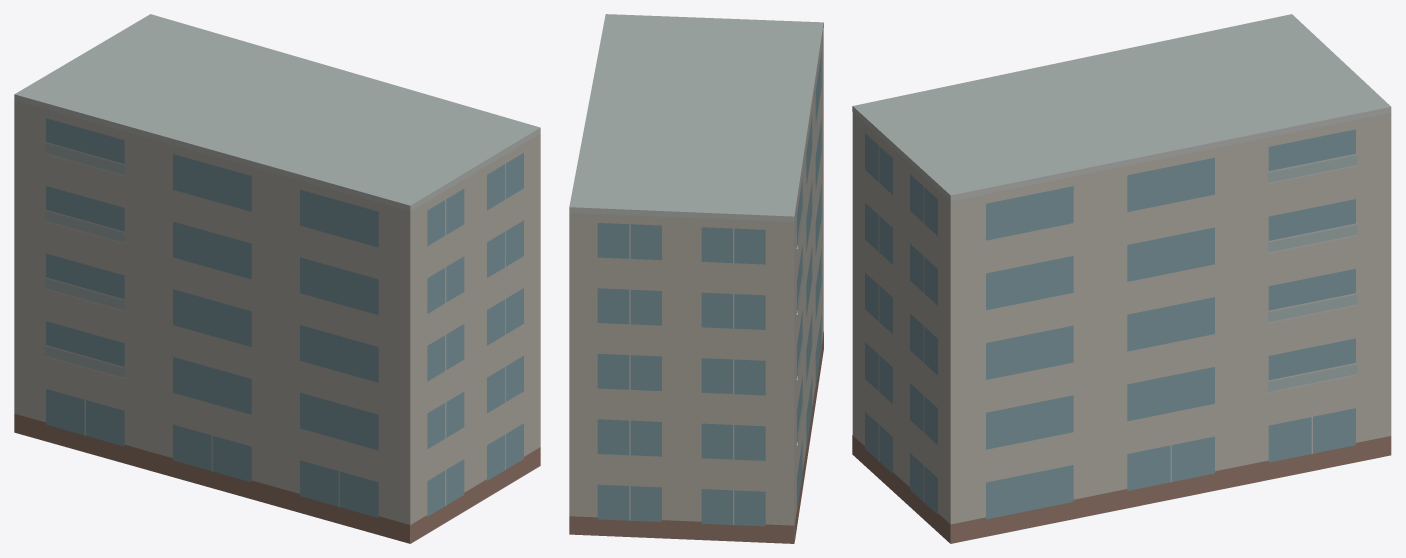
The model's file is survey-upis-32571391.glb.
3 renders of one model, left to right at view 1: azimuth 30°, elevation 25°; view 2: azimuth 150°, elevation 25°; view 3: azimuth 270°, elevation 25°, orthographic. The views are drawn at different scales.
Visible parts, largest first — view 1: survey-upis-32571391.tmp; view 2: survey-upis-32571391.tmp; view 3: survey-upis-32571391.tmp.
Part boxes in pixels (x1=…): survey-upis-32571391.tmp: x1=14, y1=14, x2=540, y2=543; survey-upis-32571391.tmp: x1=569, y1=14, x2=823, y2=543; survey-upis-32571391.tmp: x1=852, y1=14, x2=1391, y2=543.
Size of the model in its own units: 15.86 by 14.2 by 19.9.
